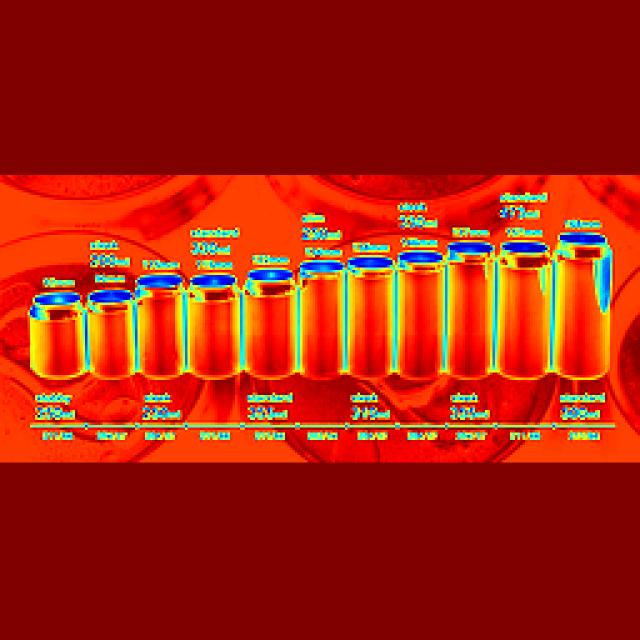Aluminium Food Cans: (492, 245, 556, 392), (283, 250, 345, 388), (549, 245, 611, 383), (332, 260, 397, 386), (134, 269, 196, 380), (184, 271, 240, 384), (397, 250, 444, 378), (239, 274, 291, 389), (33, 286, 96, 374), (448, 250, 493, 372), (96, 289, 131, 389)
